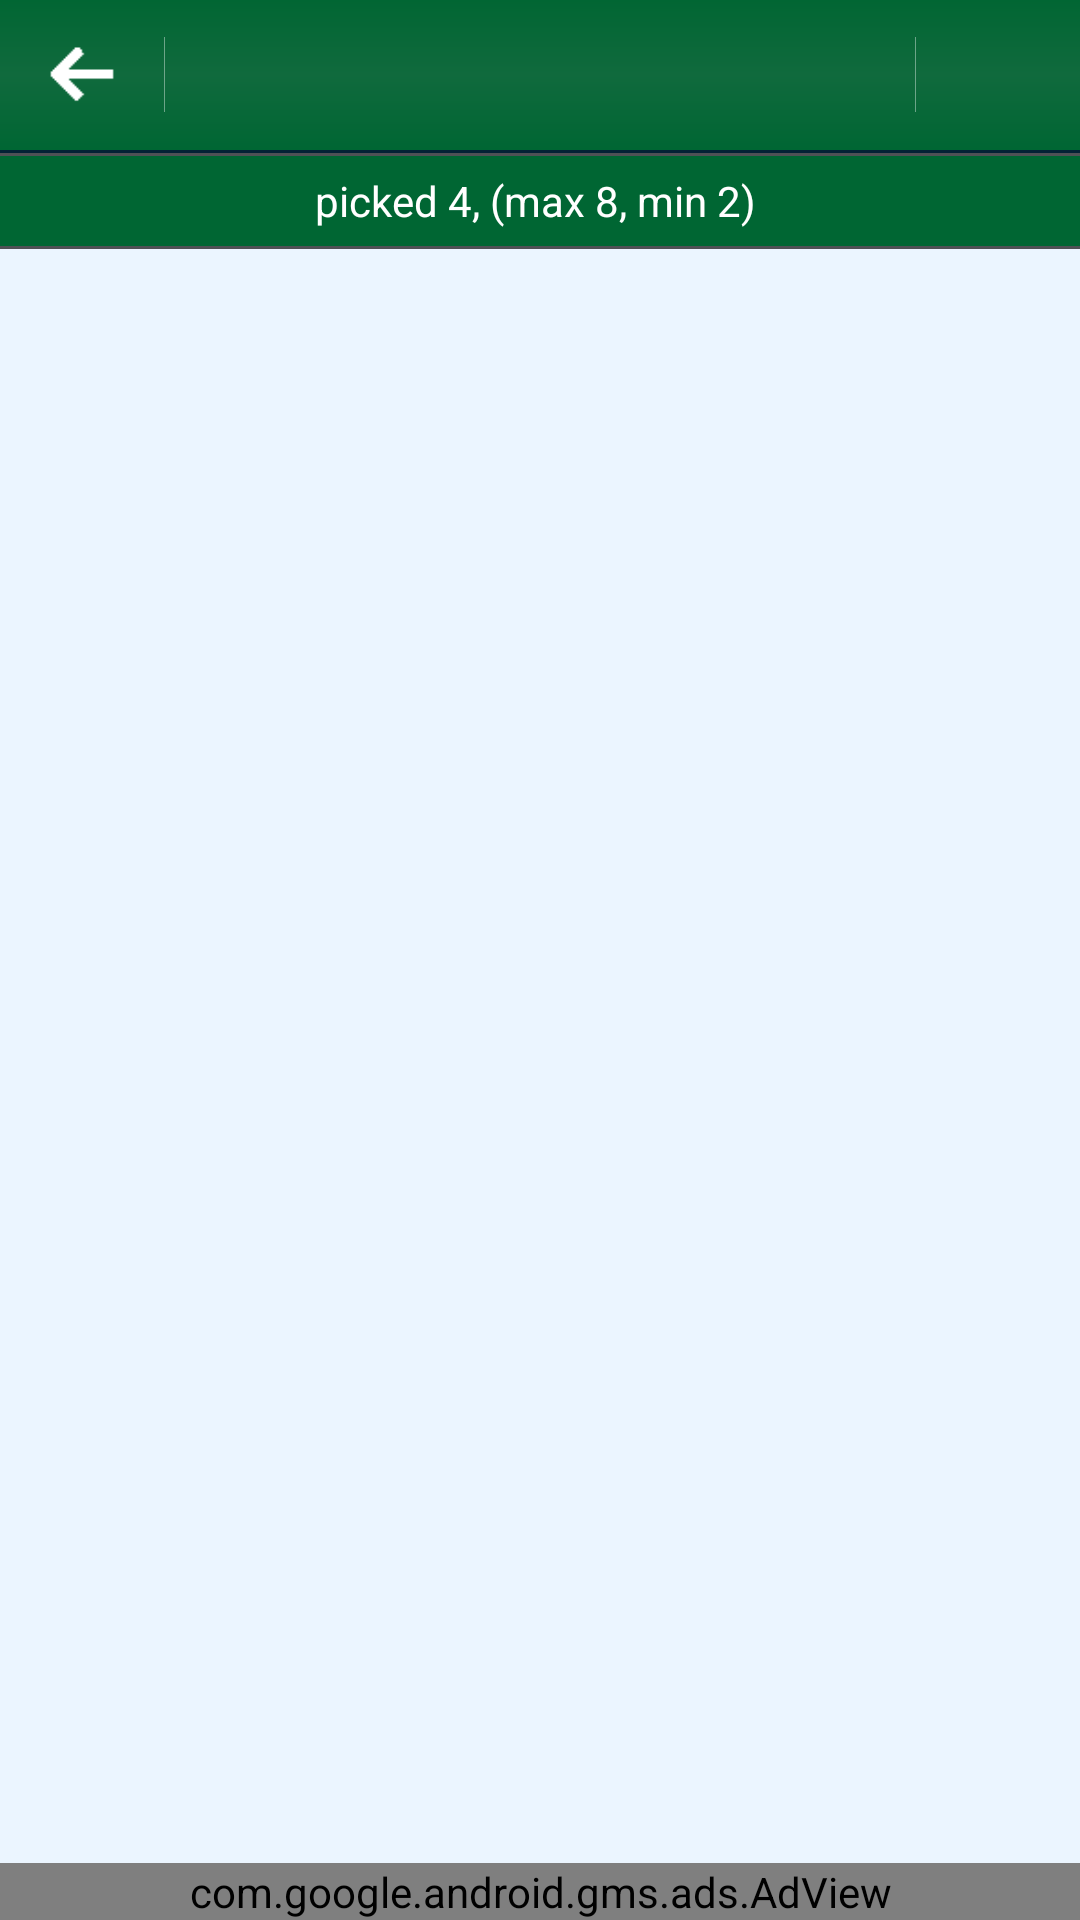

Point at icon controls on the screen. Image size 1080px×1920px, points as (x,y).
back: (82,74)
